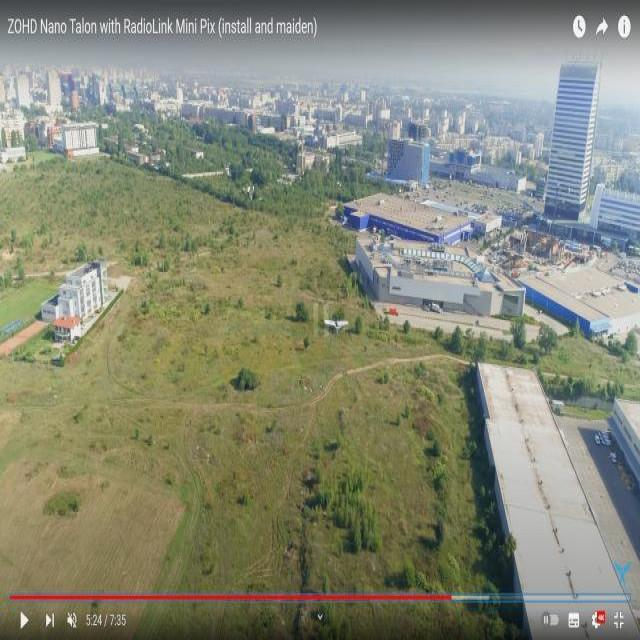UAV: (318, 308, 361, 354)
